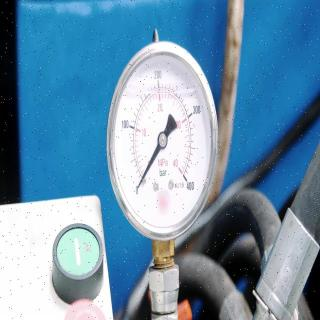gauge: (106, 41, 218, 239), (173, 167, 197, 189), (130, 173, 152, 197), (156, 132, 168, 148), (133, 182, 143, 192)
